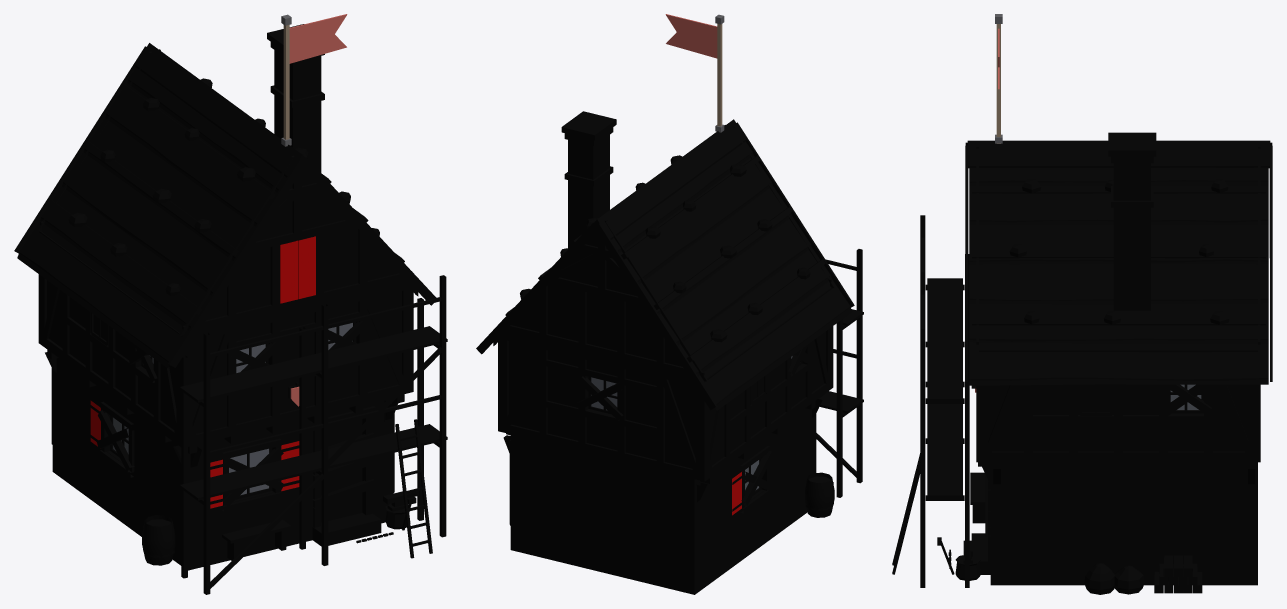
File: wohnhaus_zwerg_s1_g1.glb
The picture shows the model from 3 angles, left to right: view 1: azimuth 30°, elevation 25°; view 2: azimuth 150°, elevation 25°; view 3: azimuth 270°, elevation 25°; orthographic projection. The views are drawn at different scales.
Visible parts, largest first — view 1: Haus, Dach, Geruest, Leerstand, Fahne, Scheiben; view 2: Haus, Dach, Geruest, Fahne, Leerstand; view 3: Dach, Haus, Geruest, Leerstand, Fahne.
Boxes of the visible parts, x1,y1,x2,y2 form: Haus: [36, 24, 418, 570]; Dach: [14, 43, 436, 368]; Geruest: [179, 275, 447, 594]; Leerstand: [96, 320, 375, 508]; Fahne: [281, 14, 347, 146]; Scheiben: [113, 323, 352, 495]; Haus: [498, 111, 835, 594]; Dach: [476, 119, 854, 410]; Geruest: [816, 249, 863, 497]; Fahne: [665, 14, 724, 132]; Leerstand: [577, 344, 813, 505]; Dach: [965, 140, 1272, 385]; Haus: [937, 132, 1260, 594]; Geruest: [892, 215, 969, 587]; Leerstand: [971, 384, 1211, 536]; Fahne: [995, 14, 1002, 143].
Bounding box in the file's own units: 5.79 × 10.74 × 7.12.
